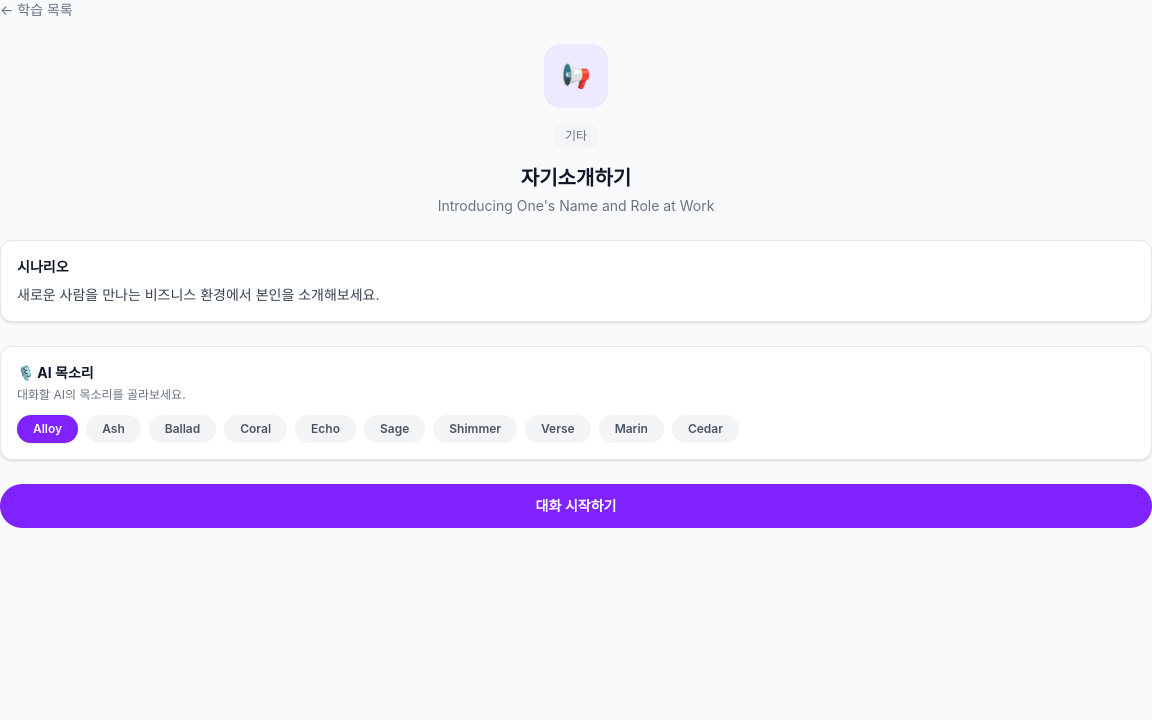
Test case: StudyIntroPage › 로그인하지 않았으면(멤버십 없음) 팝업을 띄우고 이동하지 않는다
Click the button "대화 시작하기". click: [576, 506]
box: [0,484,1151,528]
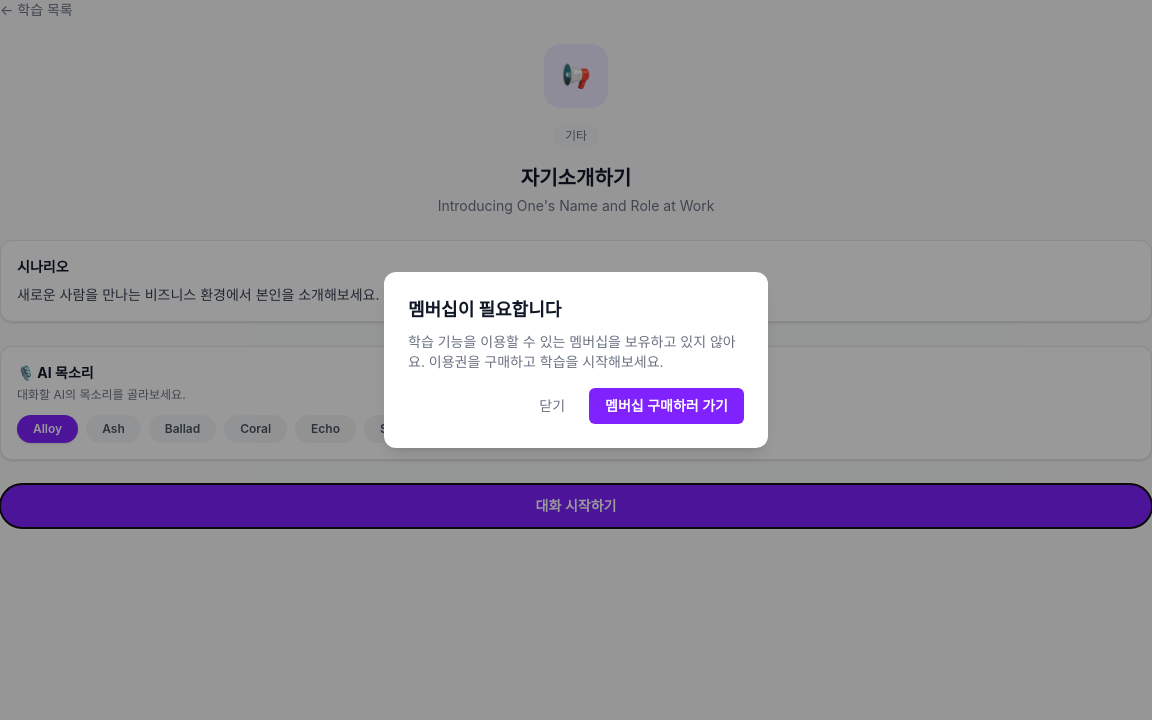
Now the heading "멤버십이 필요합니다" is shown, box [408,299,561,320]
